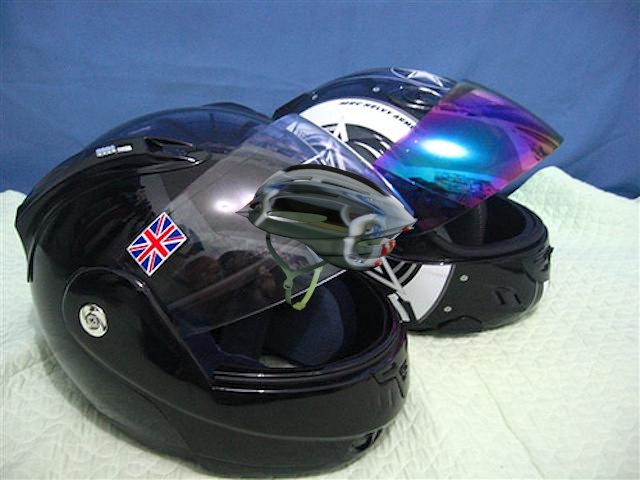bike_helmet: (224, 161, 417, 320)
